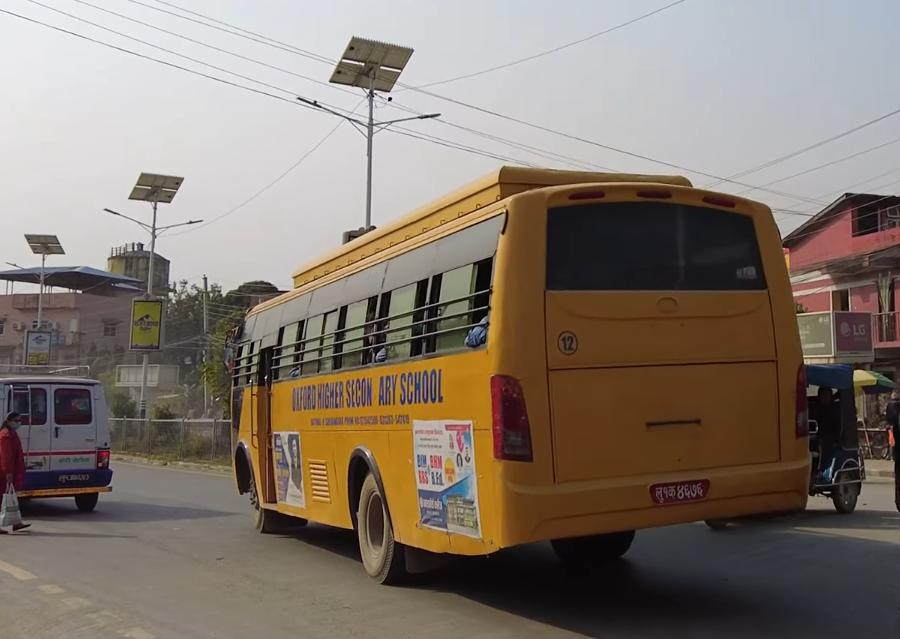school_bus: (224, 163, 818, 602)
